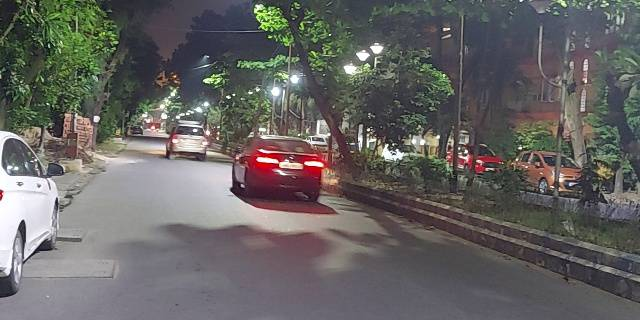Car: (231, 135, 326, 198), (166, 121, 207, 161)
